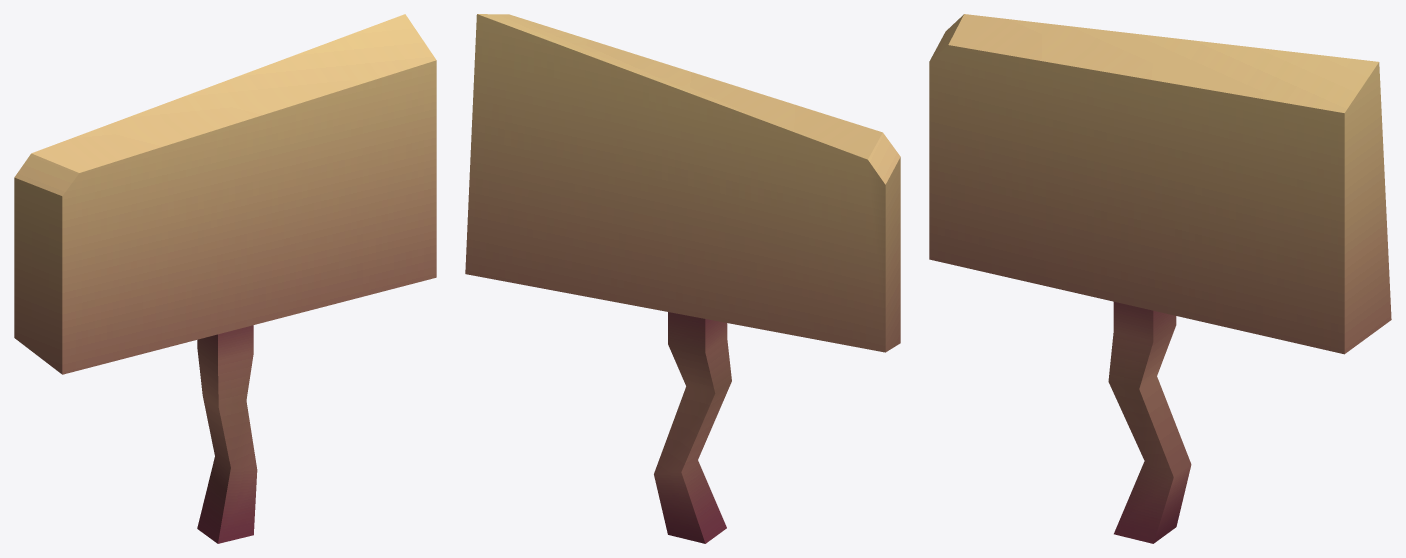
File: Sign.fbx
The picture shows the model from 3 angles, left to right: view 1: azimuth 30°, elevation 25°; view 2: azimuth 150°, elevation 25°; view 3: azimuth 330°, elevation 25°; orthographic projection. The views are drawn at different scales.
Visible parts, largest first — view 1: pCube3; view 2: pCube3; view 3: pCube3.
Boxes of the visible parts, x1,y1,x2,y2 form: pCube3: [14, 14, 436, 543]; pCube3: [465, 14, 900, 543]; pCube3: [929, 14, 1391, 543].
Bounding box in the file's own units: 61.96 × 69.49 × 11.63.
1 material, 1 textured.
